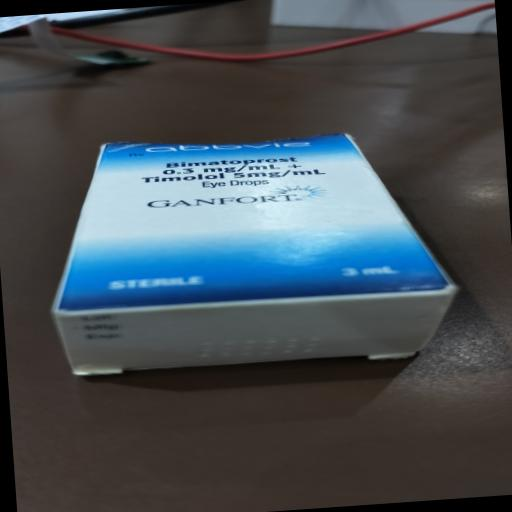eye-drops: (150, 148, 371, 186), (143, 134, 312, 164), (192, 174, 278, 192)
medicine: (85, 124, 412, 374)
